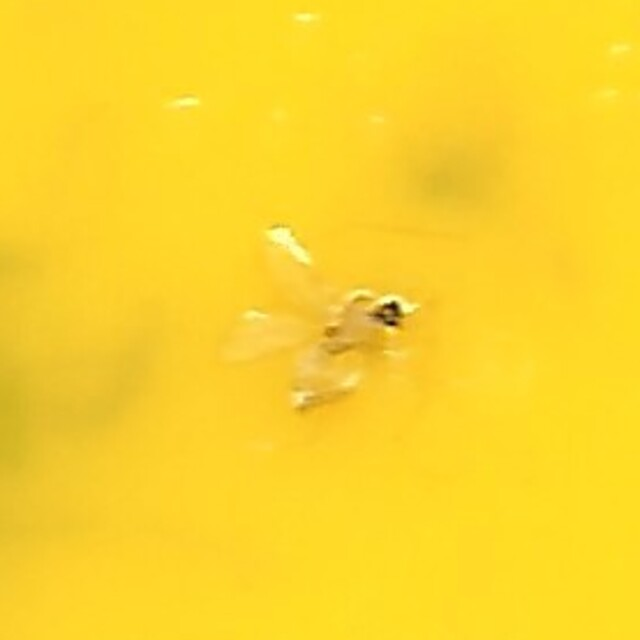Nematocera: (231, 228, 409, 412)
